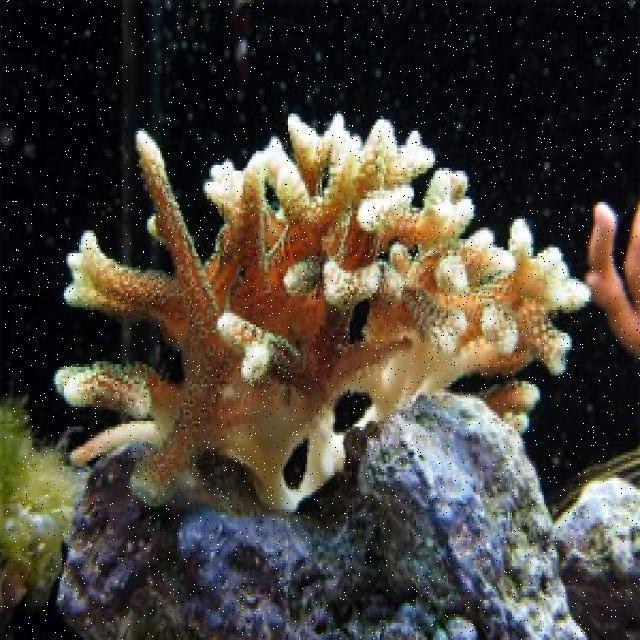Healthy: (53, 98, 600, 508)
